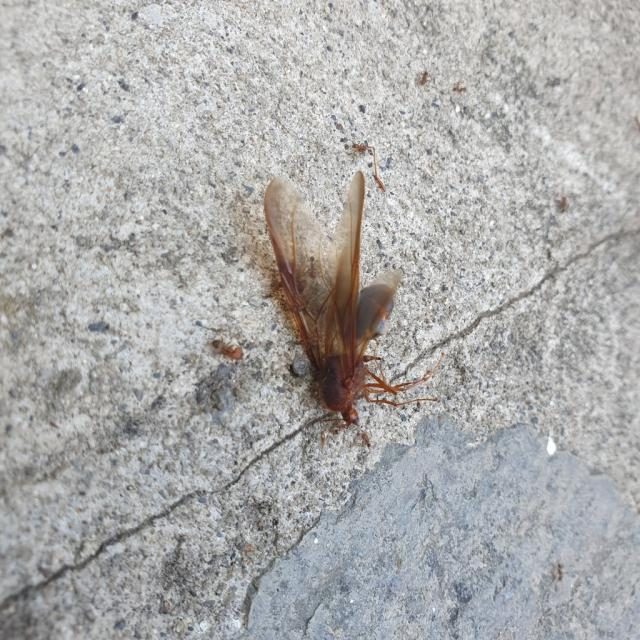Dead-Male-Alate: (264, 170, 444, 453)
